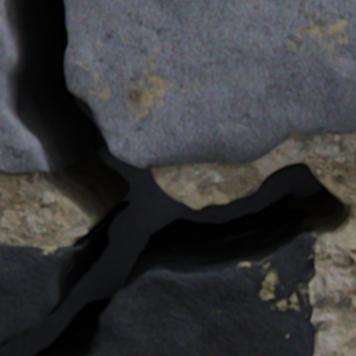broken_brick: (65, 0, 355, 168), (91, 232, 316, 355), (0, 0, 51, 174), (0, 245, 86, 345)
crack: (0, 0, 355, 355)
